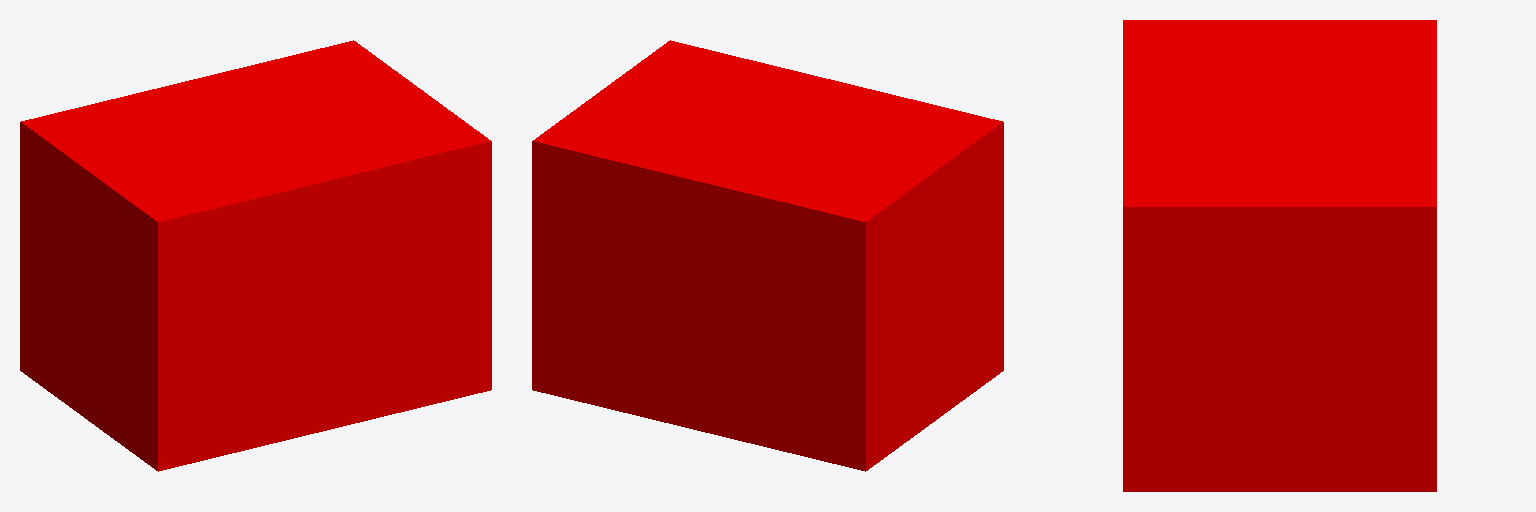
robot.urdf — block_red_unseen:
<?xml version="1.0"?>
<robot name="block_red_unseen">
  <link name="base_link">
    <contact>
      <lateral_friction value="0.7"/>
      <spinning_friction value=".001"/>
    </contact>
    <inertial>
      <origin rpy="0 0 0" xyz="0 0 0"/>
      <mass value="1"/>
      <inertia ixx="1" ixy="0" ixz="0" iyy="1" iyz="0" izz="1"/>
    </inertial>
    <visual>
      <origin rpy="0 0 0" xyz="0.0 0.0 0.0"/>
      <geometry>
        <box size="0.07 0.05 0.05"/>
      </geometry>
      <material name="red">
        <color rgba="1 0 0 1"/>
      </material>
    </visual>
    <collision>
      <origin rpy="0 0 0" xyz="0.0 0.0 0.0"/>
      <geometry>
        <box size="0.07 0.05 0.05"/>
      </geometry>
    </collision>
  </link>
</robot>

--- Render facts (derived) ---
3 views of the same robot in one strip: view 1: azimuth 30°, elevation 25°; view 2: azimuth 150°, elevation 25°; view 3: azimuth 270°, elevation 25° (orthographic).
Robot: block_red_unseen — 1 links, 0 joints (none); root link base_link; default pose: all joints at 0.
Visible links, largest first — view 1: base_link; view 2: base_link; view 3: base_link.
Boxes of the visible links, box(x1,y1,x2,y2) form: base_link: box(20, 40, 491, 471); base_link: box(532, 40, 1003, 471); base_link: box(1123, 20, 1436, 491).
Bounding box of the posed robot: 0.07 × 0.05 × 0.05 m (x, y, z).
Geometry: primitives only (box / cylinder / sphere), no mesh files.
